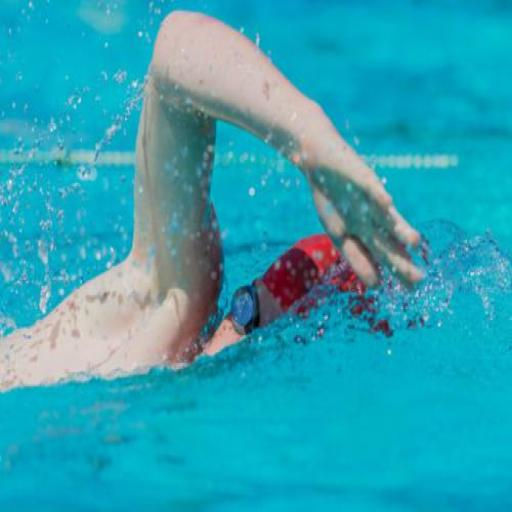swimming: (0, 8, 431, 396)
